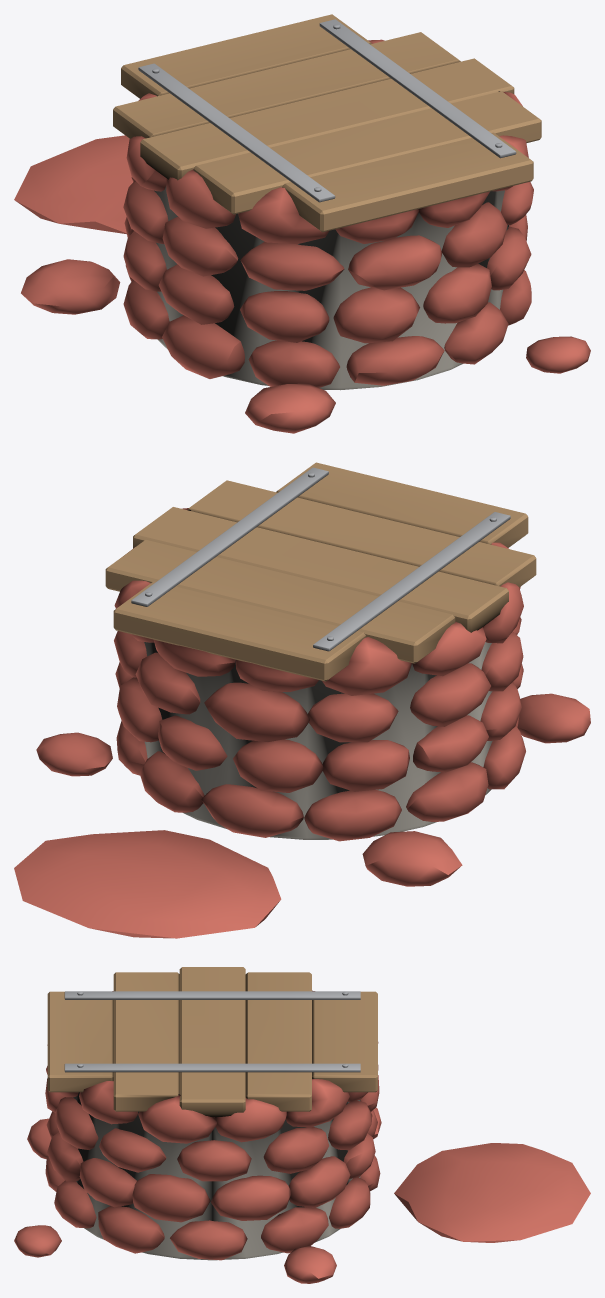
Rendered from pump.glb.
3 renders of one model, top to bottom at view 1: azimuth 30°, elevation 25°; view 2: azimuth 150°, elevation 25°; view 3: azimuth 270°, elevation 25°, orthographic. The views are drawn at different scales.
Parts seen in each view (by area): view 1: PART; view 2: PART; view 3: PART.
Boxes of the visible parts, x1,y1,x2,y2 form: PART: (14, 14, 590, 433); PART: (14, 462, 590, 938); PART: (14, 967, 590, 1283).
Size of the model in its own units: 1.06 by 0.5146 by 1.49.
